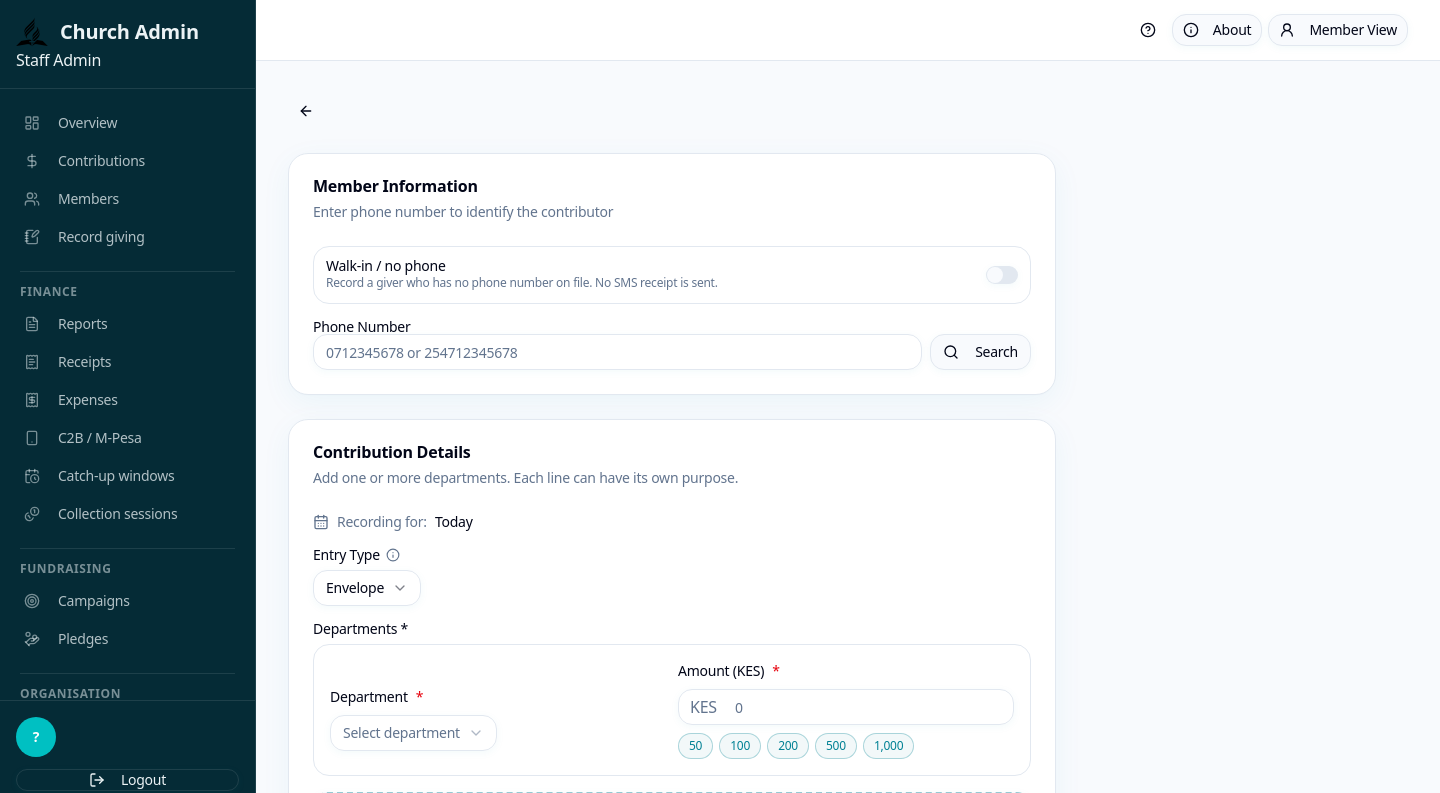
ManualEntryPage › toggling Walk-in swaps the phone lookup for a giver name field
The width and height of the screenshot is (1440, 793).
Expected: the field labelled "Phone Number" is shown, 313,334 -> 922,370
Click the switch named "Walk-in / no phone" at (1002, 275), box 986,266 -> 1018,284
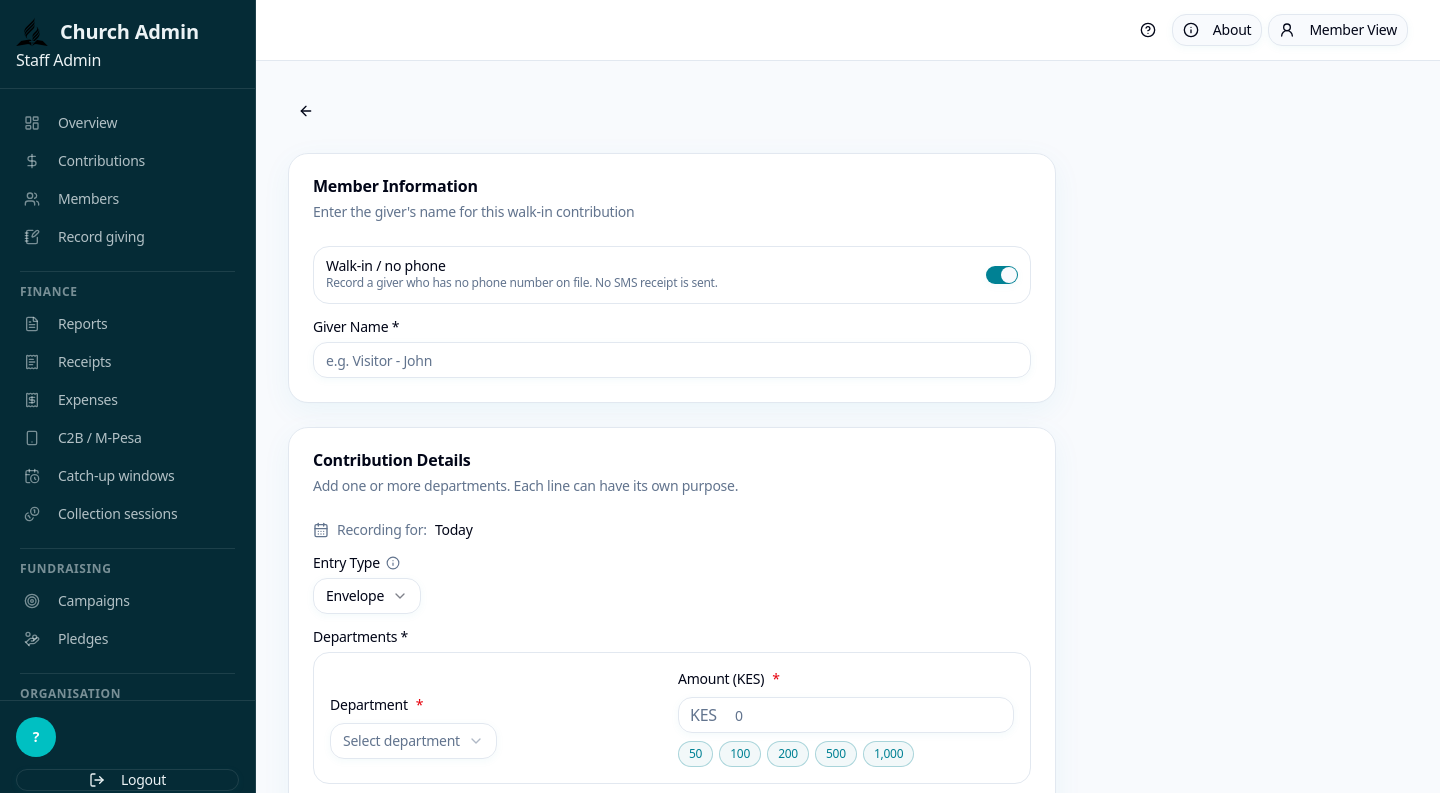
Expected: the field labelled "Giver Name *" is shown, 313,342 -> 1031,378
